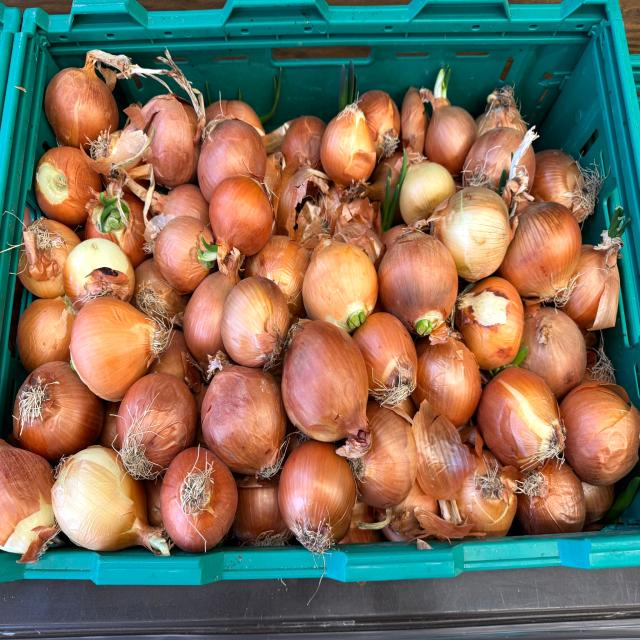onion: (47, 436, 168, 573), (200, 358, 303, 486), (64, 281, 171, 399), (270, 430, 366, 554), (478, 353, 573, 473), (375, 218, 461, 336), (298, 225, 384, 329), (217, 264, 290, 369), (206, 165, 282, 262)
